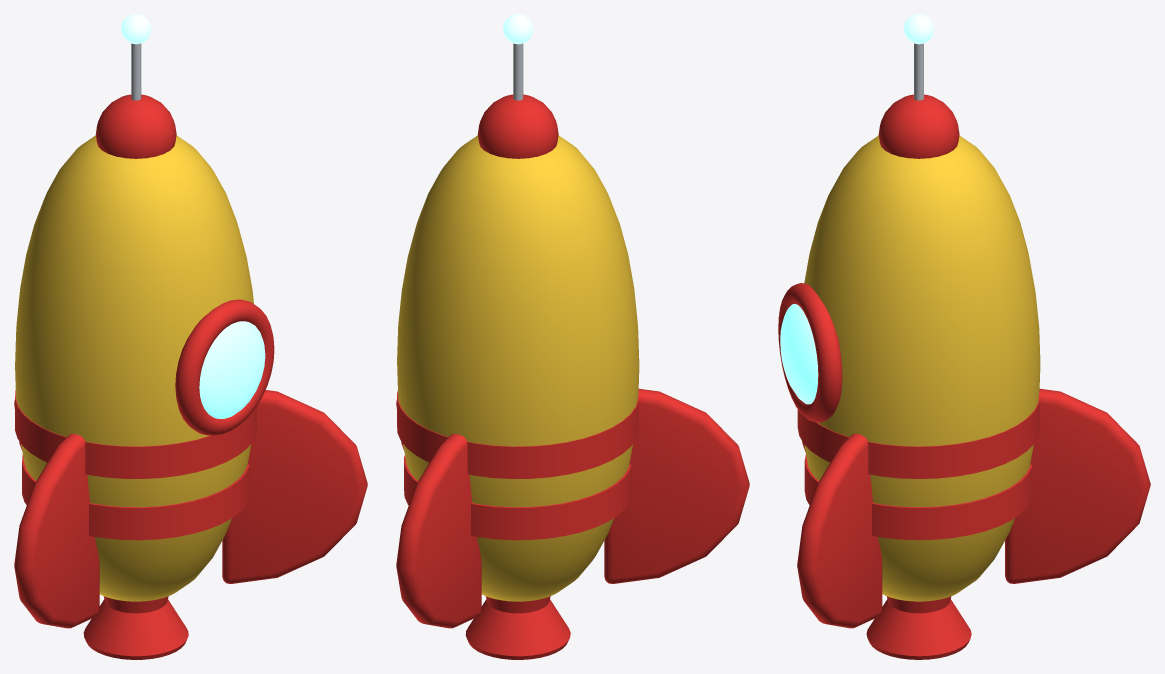
File: Rocket_05_ToyRocket.fbx
The picture shows the model from 3 angles, left to right: view 1: azimuth 30°, elevation 25°; view 2: azimuth 150°, elevation 25°; view 3: azimuth 270°, elevation 25°; orthographic projection.
Parts seen in each view (by area): view 1: R05_Body, R05_Fin_3, R05_Fin_2, R05_Stripe_2, R05_Stripe, R05_WindowFrame, R05_Nozzle, R05_Window, R05_NoseBall, R05_AntennaBall, R05_Antenna; view 2: R05_Body, R05_Fin_2, R05_Fin, R05_Stripe_2, R05_Stripe, R05_Nozzle, R05_NoseBall, R05_AntennaBall, R05_Antenna; view 3: R05_Body, R05_Fin, R05_Fin_3, R05_Stripe_2, R05_Stripe, R05_Nozzle, R05_NoseBall, R05_WindowFrame, R05_Window, R05_AntennaBall, R05_Antenna.
Boxes of the visible parts, left/top/right/bottom form: R05_Body: left=15, top=135, right=253, bottom=601; R05_Fin_3: left=222, top=390, right=367, bottom=583; R05_Fin_2: left=14, top=434, right=99, bottom=628; R05_Stripe_2: left=15, top=391, right=256, bottom=478; R05_Stripe: left=22, top=454, right=249, bottom=540; R05_WindowFrame: left=175, top=299, right=274, bottom=435; R05_Nozzle: left=83, top=596, right=188, bottom=659; R05_Window: left=199, top=321, right=265, bottom=418; R05_NoseBall: left=95, top=94, right=176, bottom=158; R05_AntennaBall: left=121, top=14, right=151, bottom=44; R05_Antenna: left=131, top=43, right=141, bottom=100; R05_Body: left=397, top=135, right=639, bottom=601; R05_Fin_2: left=604, top=388, right=749, bottom=583; R05_Fin: left=396, top=434, right=481, bottom=628; R05_Stripe_2: left=397, top=390, right=638, bottom=478; R05_Stripe: left=404, top=455, right=631, bottom=540; R05_Nozzle: left=465, top=596, right=570, bottom=659; R05_NoseBall: left=477, top=94, right=558, bottom=158; R05_AntennaBall: left=503, top=14, right=533, bottom=44; R05_Antenna: left=513, top=43, right=523, bottom=100; R05_Body: left=804, top=135, right=1040, bottom=601; R05_Fin: left=1005, top=388, right=1150, bottom=583; R05_Fin_3: left=797, top=433, right=882, bottom=628; R05_Stripe_2: left=797, top=400, right=1039, bottom=478; R05_Stripe: left=804, top=454, right=1032, bottom=540; R05_Nozzle: left=866, top=596, right=971, bottom=659; R05_NoseBall: left=878, top=94, right=959, bottom=158; R05_WindowFrame: left=778, top=283, right=842, bottom=422; R05_Window: left=780, top=304, right=818, bottom=404; R05_AntennaBall: left=904, top=14, right=934, bottom=44; R05_Antenna: left=914, top=43, right=923, bottom=100.
Size of the model in its own units: 4.01 by 6.8 by 3.68.
